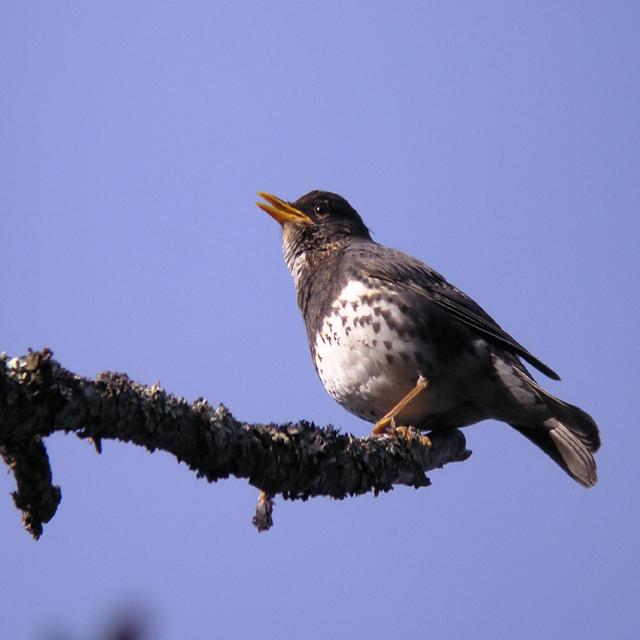bird: (249, 180, 601, 486)
